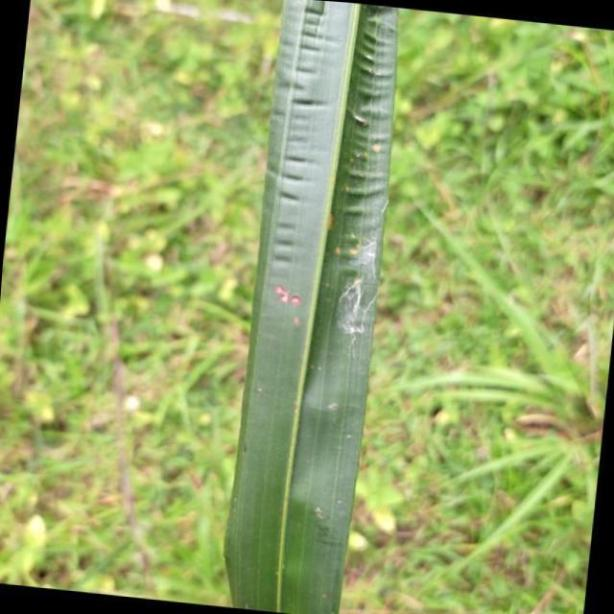Boron: (220, 0, 396, 614)
